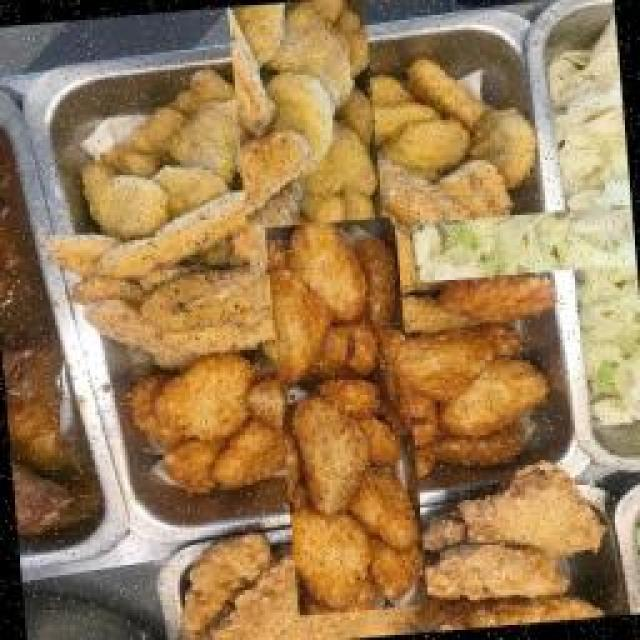chicken_nuggets: (150, 0, 465, 300)
chinese_cabbage: (482, 123, 640, 356)
triangle_hash_brown: (205, 275, 488, 558)
